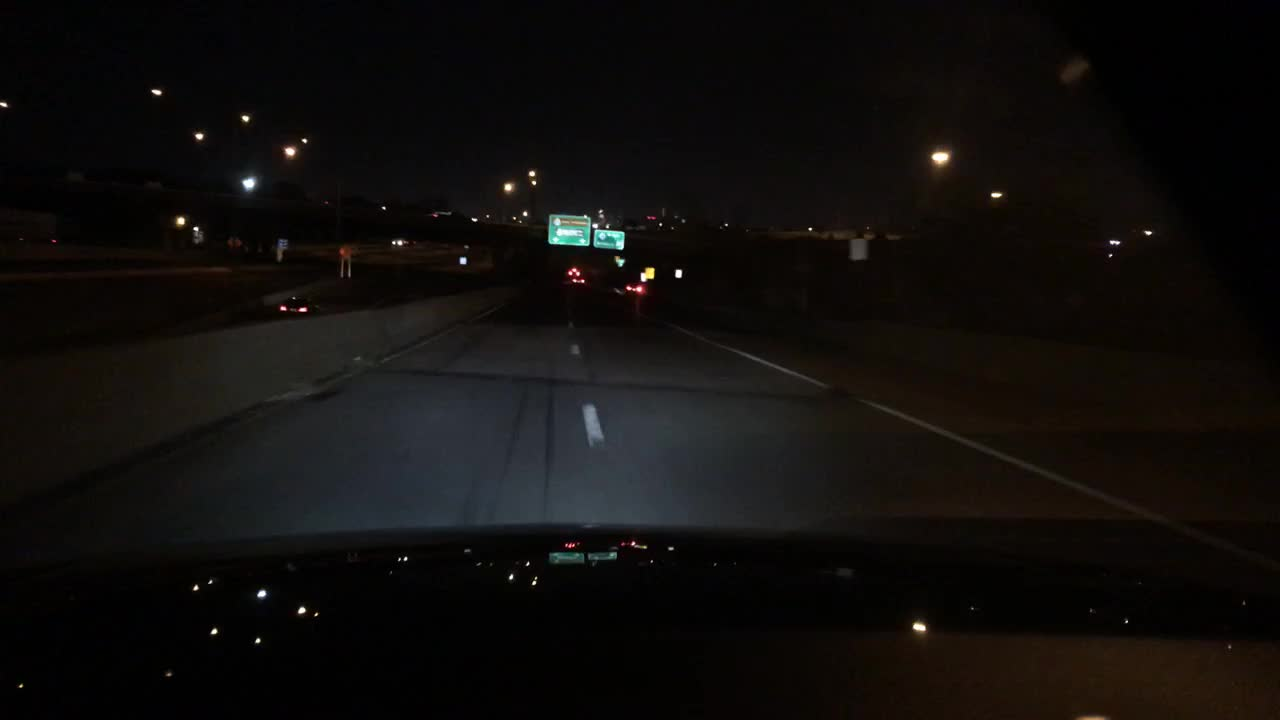car: (550, 250, 650, 329), (271, 296, 318, 318)
traffic sign: (546, 212, 591, 245), (594, 226, 625, 250), (849, 237, 869, 260), (335, 244, 356, 258), (224, 234, 245, 247), (642, 263, 658, 280), (274, 237, 290, 247)
